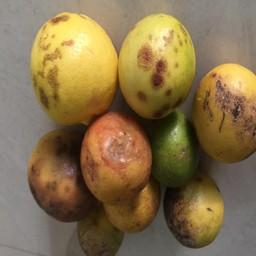Bad_lime: (26, 126, 153, 254), (22, 11, 116, 119), (116, 16, 189, 119), (201, 64, 256, 167), (162, 178, 226, 248)
